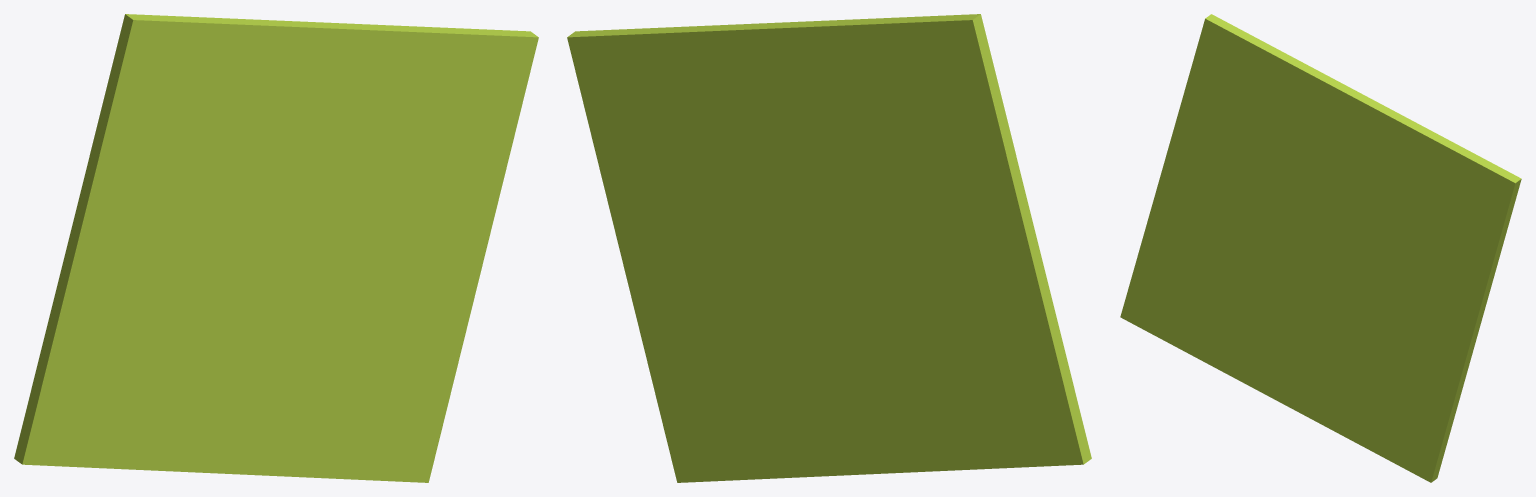
The picture shows the model from 3 angles, left to right: view 1: azimuth 30°, elevation 25°; view 2: azimuth 150°, elevation 25°; view 3: azimuth 330°, elevation 25°; orthographic projection. The views are drawn at different scales.
Visible parts, largest first — view 1: osm-way27917482-F-1; view 2: osm-way27917482-F-1; view 3: osm-way27917482-F-1.
Boxes of the visible parts, x1=… form: osm-way27917482-F-1: x1=14, y1=14, x2=538, y2=482; osm-way27917482-F-1: x1=567, y1=14, x2=1091, y2=482; osm-way27917482-F-1: x1=1120, y1=14, x2=1521, y2=482.
Bounding box in the file's own units: 5.43 × 5.37 × 0.15.
